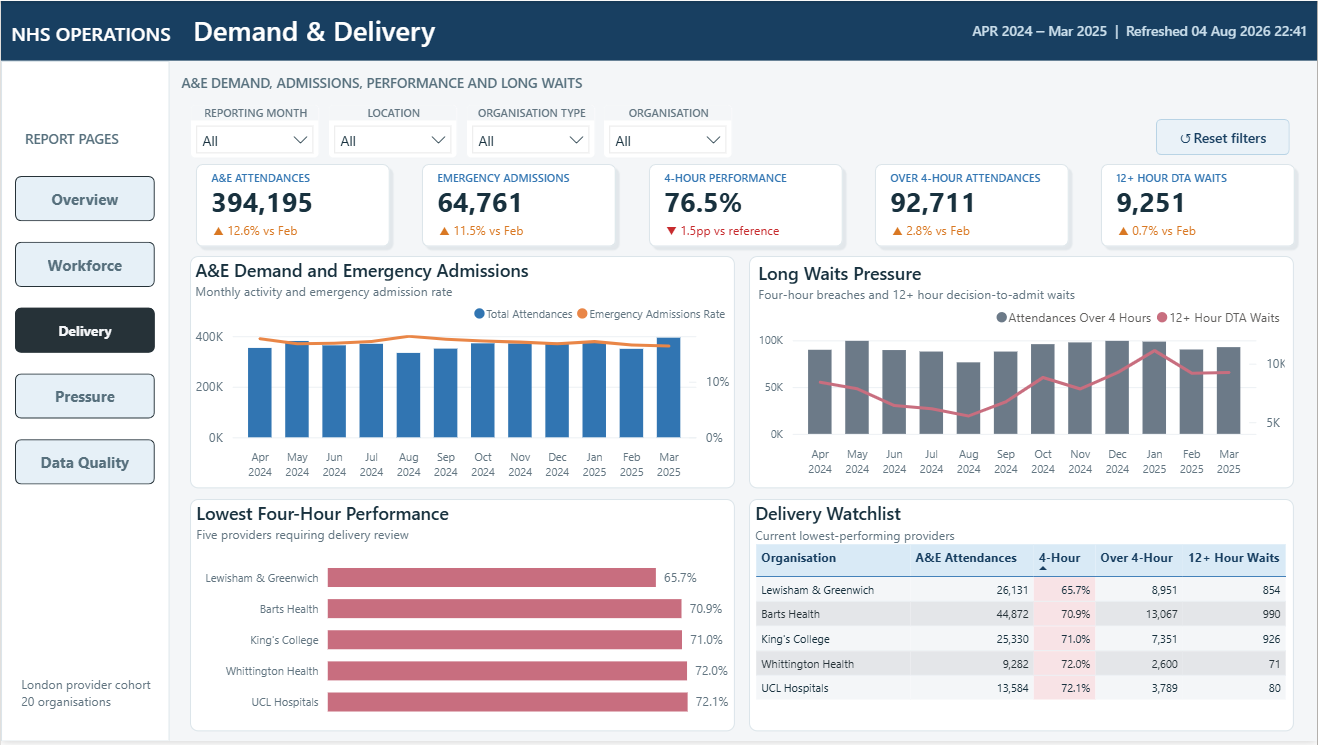

The dashboard page shown, as its layout file describes it:
{"tool":"powerbi","page":{"name":"Delivery","canvas":[1280,720],"ordinal":2},"visuals":[{"type":"shape","box":[0,58,164,662],"z":0},{"type":"shape","box":[404,153,200.2,92],"z":0,"group":"g4"},{"type":"shape","box":[1064,153,200.2,92],"z":0,"group":"g5"},{"type":"shape","box":[0,0,1280,58],"z":1000},{"type":"shape","box":[624,153,200,92],"z":1000,"group":"g3"},{"type":"cardVisual","fields":{"Data":["_Measures.Emergency Admissions Card Value"]},"box":[419.2,177,169.7,31],"z":1000,"group":"g4"},{"type":"cardVisual","fields":{"Data":["_Measures.12+ Hour DTA Waits Card Value"]},"box":[1079.2,177,169.7,31],"z":1000,"group":"g5"},{"type":"textbox","box":[5,5,550,47],"z":2000},{"type":"shape","box":[184,153,200,92],"z":2000,"group":"g2"},{"type":"cardVisual","fields":{"Data":["_Measures.Emergency Admissions Card Delta"]},"box":[419.2,212,161.5,20],"z":2000,"group":"g4"},{"type":"cardVisual","fields":{"Data":["_Measures.12+ Hour DTA Waits Card Delta"]},"box":[1079.2,212,161.5,20],"z":2000,"group":"g5"},{"type":"cardVisual","fields":{"Data":["_Measures.Latest Refresh Label"]},"box":[1085,10,190,35],"z":3000},{"type":"shape","box":[844,152.7,200,92],"z":3000,"group":"g1"},{"type":"textbox","box":[419.2,163,140,17],"z":3000,"group":"g4"},{"type":"textbox","box":[1079.2,163,128.8,17],"z":3000,"group":"g5"},{"type":"textbox","box":[940,11,148,35],"z":4000},{"type":"group","id":"g1","title":"Group 1","box":[844,152.7,200,92],"z":5000},{"type":"pageNavigator","box":[14,170,136,300],"z":6000},{"type":"textbox","box":[15,120,130,30],"z":7000},{"type":"textbox","box":[15,650,140,50],"z":8000},{"type":"textbox","box":[170.2,65.2,429.9,30.2],"z":9000},{"type":"slicer","title":"REPORTING MONTH","fields":{"Values":["DimDate.MonthLabel"]},"box":[184,100,126,53],"z":10000},{"type":"slicer","title":"LOCATION","fields":{"Values":["DataQualityRuleResults.ReportingMonth"]},"box":[318,100,126,53],"z":11000},{"type":"slicer","title":"ORGANISATION TYPE","fields":{"Values":["DataQualityRuleResults.RecordStatus"]},"box":[452,100,126,53],"z":12000},{"type":"slicer","title":"ORGANISATION","fields":{"Values":["dimOrganisation.CanonicalOrganisationName"]},"box":[586,100,126,53],"z":13000},{"type":"actionButton","box":[1123,115,130,35],"z":14000},{"type":"group","id":"g2","title":"Group 2","box":[184,153,200,92],"z":15000},{"type":"group","id":"g3","title":"Group 3","box":[624,153,200,92],"z":16000},{"type":"group","id":"g4","title":"Group 3","box":[404,153,200.2,92],"z":17000},{"type":"group","id":"g5","title":"Group 3","box":[1064,153,200,91.9],"z":18000},{"type":"lineClusteredColumnComboChart","title":"A&E Demand and Emergency Admissions","fields":{"Category":["DimDate.MonthLabel"],"Y":["_Measures.Total Attendances"],"Y2":["_Measures.Emergency Admissions Rate"]},"box":[184,248,530,226],"z":19000},{"type":"lineClusteredColumnComboChart","title":"Long Waits Pressure","fields":{"Category":["DimDate.MonthLabel"],"Y2":["_Measures.12+ Hour DTA Waits"],"Y":["_Measures.Attendances Over 4 Hours"]},"box":[728,248,530,226],"z":20000},{"type":"clusteredBarChart","title":"Lowest Four-Hour Performance","fields":{"Y":["_Measures.Four-Hour Performance Latest"],"Category":["dimOrganisation.Organisation Short Name"]},"box":[184,484,530,226],"z":21000},{"type":"textbox","box":[199.2,163,128.7,17],"z":22000,"group":"g2"},{"type":"tableEx","title":"Delivery Watchlist","fields":{"Values":["dimOrganisation.Organisation Short Name","_Measures.Total Attendances Latest","_Measures.Four-Hour Performance Latest","_Measures.Attendances Over 4 Hours Latest","_Measures.12+ Hour DTA Waits Latest"]},"box":[728,484,530,226],"z":22000},{"type":"textbox","box":[859.2,162.7,175,17],"z":23000,"group":"g1"},{"type":"textbox","box":[639.2,163,163.7,17],"z":23000,"group":"g3"},{"type":"cardVisual","fields":{"Data":["_Measures.AE Attendances Card Value"]},"box":[199.2,177,169.6,31],"z":26000,"group":"g2"},{"type":"cardVisual","fields":{"Data":["_Measures.Four Hour Performance Card Value"]},"box":[639.2,177,169.6,31],"z":27000,"group":"g3"},{"type":"cardVisual","fields":{"Data":["_Measures.Over 4-Hour Attendances Card Value"]},"box":[859.2,176.7,169.6,31],"z":28000,"group":"g1"},{"type":"cardVisual","fields":{"Data":["_Measures.AE Attendances Card Delta"]},"box":[199.2,212,161.4,20],"z":30000,"group":"g2"},{"type":"cardVisual","fields":{"Data":["_Measures.Four Hour Performance Card Delta"]},"box":[639.2,212,169.6,20],"z":31000,"group":"g3"},{"type":"cardVisual","fields":{"Data":["_Measures.Over 4-Hour Attendances Card Delta"]},"box":[859.2,211.7,161.4,20],"z":33000,"group":"g1"}]}

Visuals, with their boxes in screenshot pixels (x1, y1, x2, y2), scaled from the page's 1280x720 canvas onto the 1318x745 screenshot:
shape: 0, 60, 169, 744
shape: 416, 158, 622, 254
shape: 1096, 158, 1302, 254
shape: 0, 0, 1317, 60
shape: 643, 158, 848, 254
cardVisual - _Measures.Emergency Admissions Card Value: 432, 183, 606, 215
cardVisual - _Measures.12+ Hour DTA Waits Card Value: 1111, 183, 1286, 215
textbox: 5, 5, 571, 54
shape: 189, 158, 395, 254
cardVisual - _Measures.Emergency Admissions Card Delta: 432, 219, 598, 240
cardVisual - _Measures.12+ Hour DTA Waits Card Delta: 1111, 219, 1278, 240
cardVisual - _Measures.Latest Refresh Label: 1117, 10, 1313, 47
shape: 869, 158, 1075, 253
textbox: 432, 169, 576, 186
textbox: 1111, 169, 1244, 186
textbox: 968, 11, 1120, 48
"Group 1" group: 869, 158, 1075, 253
pageNavigator: 14, 176, 154, 486
textbox: 15, 124, 149, 155
textbox: 15, 673, 160, 724
textbox: 175, 67, 618, 99
"REPORTING MONTH" slicer: 189, 103, 319, 158
"LOCATION" slicer: 327, 103, 457, 158
"ORGANISATION TYPE" slicer: 465, 103, 595, 158
"ORGANISATION" slicer: 603, 103, 733, 158
actionButton: 1156, 119, 1290, 155
"Group 2" group: 189, 158, 395, 254
"Group 3" group: 643, 158, 848, 254
"Group 3" group: 416, 158, 622, 254
"Group 3" group: 1096, 158, 1302, 253
"A&E Demand and Emergency Admissions" lineClusteredColumnComboChart: 189, 257, 735, 490
"Long Waits Pressure" lineClusteredColumnComboChart: 750, 257, 1295, 490
"Lowest Four-Hour Performance" clusteredBarChart: 189, 501, 735, 735
textbox: 205, 169, 338, 186
"Delivery Watchlist" tableEx: 750, 501, 1295, 735
textbox: 885, 168, 1065, 186
textbox: 658, 169, 827, 186
cardVisual - _Measures.AE Attendances Card Value: 205, 183, 380, 215
cardVisual - _Measures.Four Hour Performance Card Value: 658, 183, 833, 215
cardVisual - _Measures.Over 4-Hour Attendances Card Value: 885, 183, 1059, 215
cardVisual - _Measures.AE Attendances Card Delta: 205, 219, 371, 240
cardVisual - _Measures.Four Hour Performance Card Delta: 658, 219, 833, 240
cardVisual - _Measures.Over 4-Hour Attendances Card Delta: 885, 219, 1051, 240
